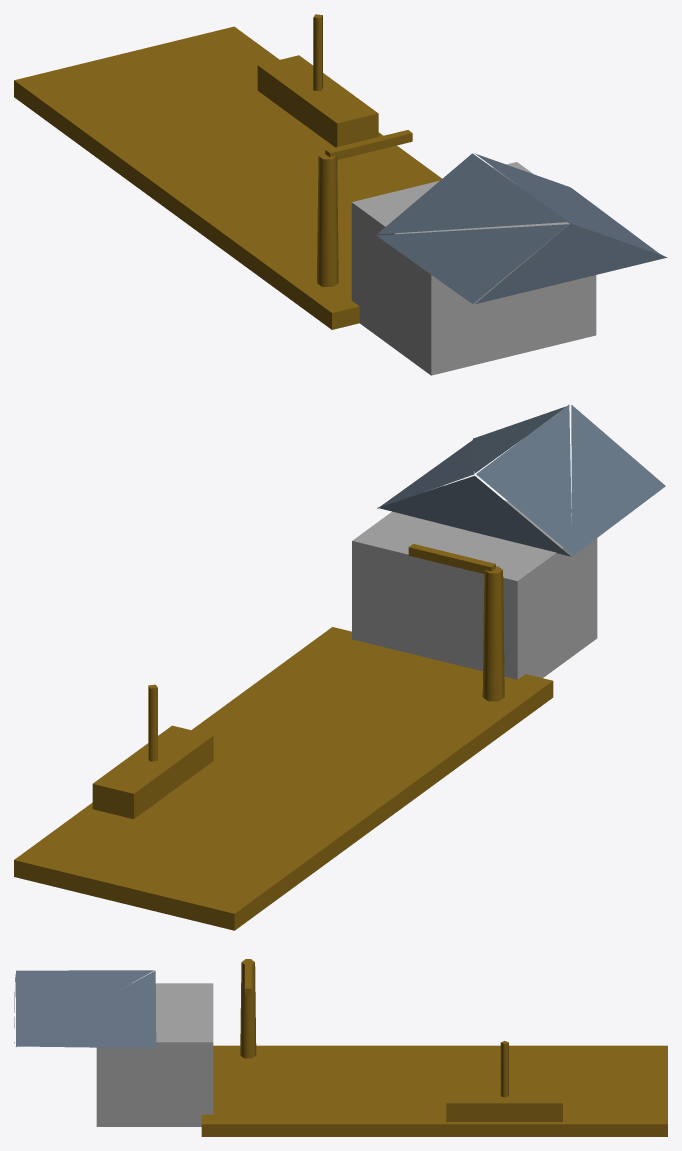
File: dock_t3.glb
3 renders of one model, top to bottom at view 1: azimuth 30°, elevation 25°; view 2: azimuth 150°, elevation 25°; view 3: azimuth 270°, elevation 25°, orthographic. The views are drawn at different scales.
Visible parts, largest first — view 1: building-dock; view 2: building-dock; view 3: building-dock.
Part boxes in pixels (bbox=[...]): building-dock: bbox=[14, 14, 667, 375]; building-dock: bbox=[14, 404, 665, 930]; building-dock: bbox=[14, 959, 667, 1136].
Bounding box in the file's own units: 0.1363 × 0.1026 × 0.4779.
